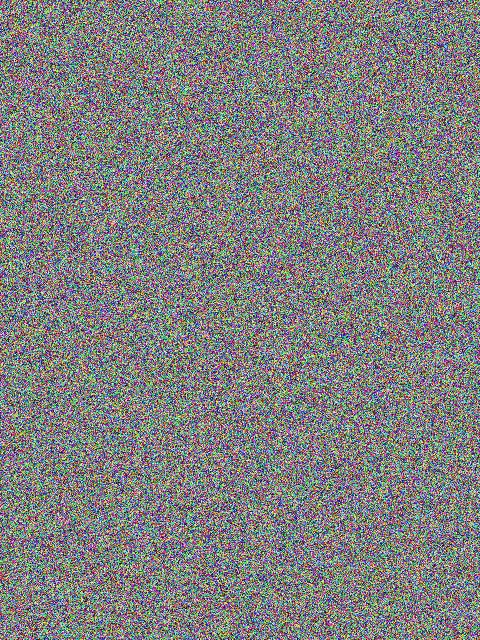aeroplane: (144, 96, 274, 212)
